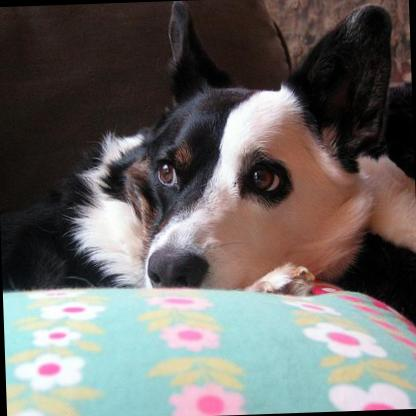Cardigan: (0, 0, 416, 303)
